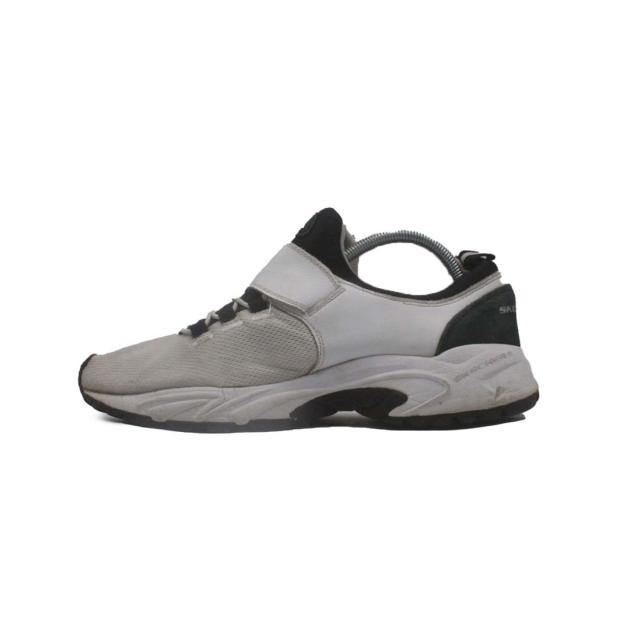heel: (466, 242, 520, 348)
midsole: (83, 346, 544, 432)
uppersole: (81, 203, 477, 391)
